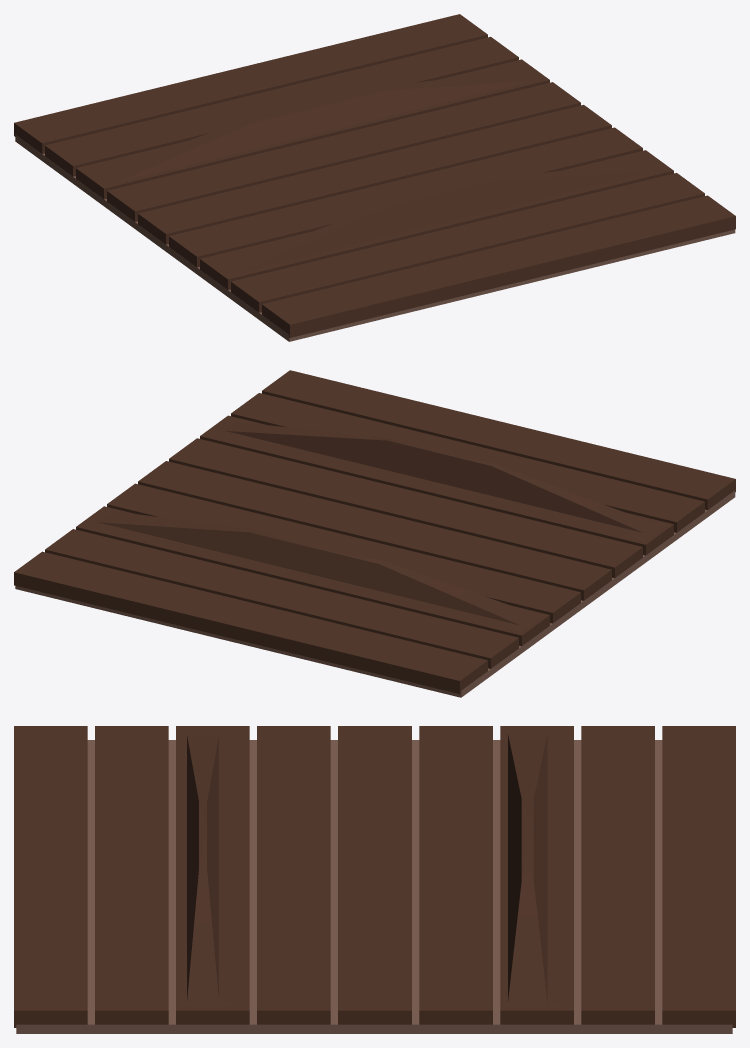
The model's file is floorboard2 1.fbx.
3 renders of one model, top to bottom at view 1: azimuth 30°, elevation 25°; view 2: azimuth 150°, elevation 25°; view 3: azimuth 270°, elevation 25°, orthographic. The views are drawn at different scales.
Visible parts, largest first — view 1: floor.002; view 2: floor.002; view 3: floor.002.
Boxes of the visible parts, x1=… form: floor.002: x1=14, y1=14, x2=735, y2=341; floor.002: x1=14, y1=370, x2=735, y2=697; floor.002: x1=14, y1=726, x2=735, y2=1033.
Size of the model in its own units: 494 by 45.5 by 529.
